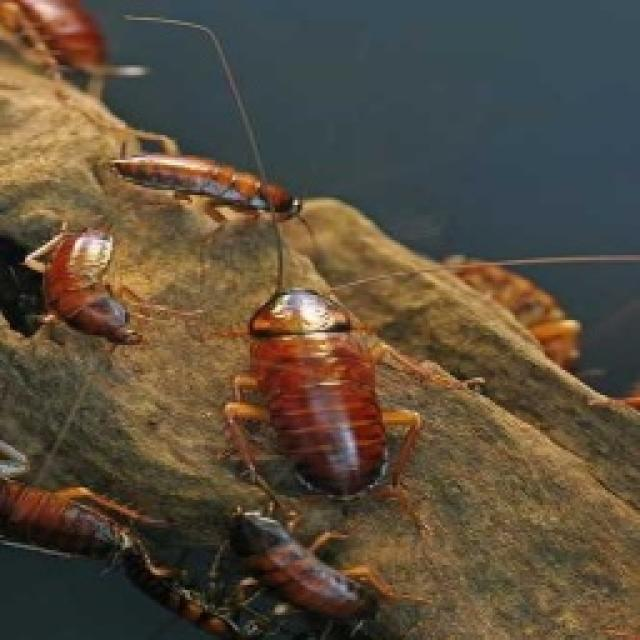cockroach: (199, 245, 425, 531), (189, 471, 400, 637), (425, 224, 590, 390), (92, 125, 316, 239), (14, 194, 163, 365), (0, 468, 168, 588)
